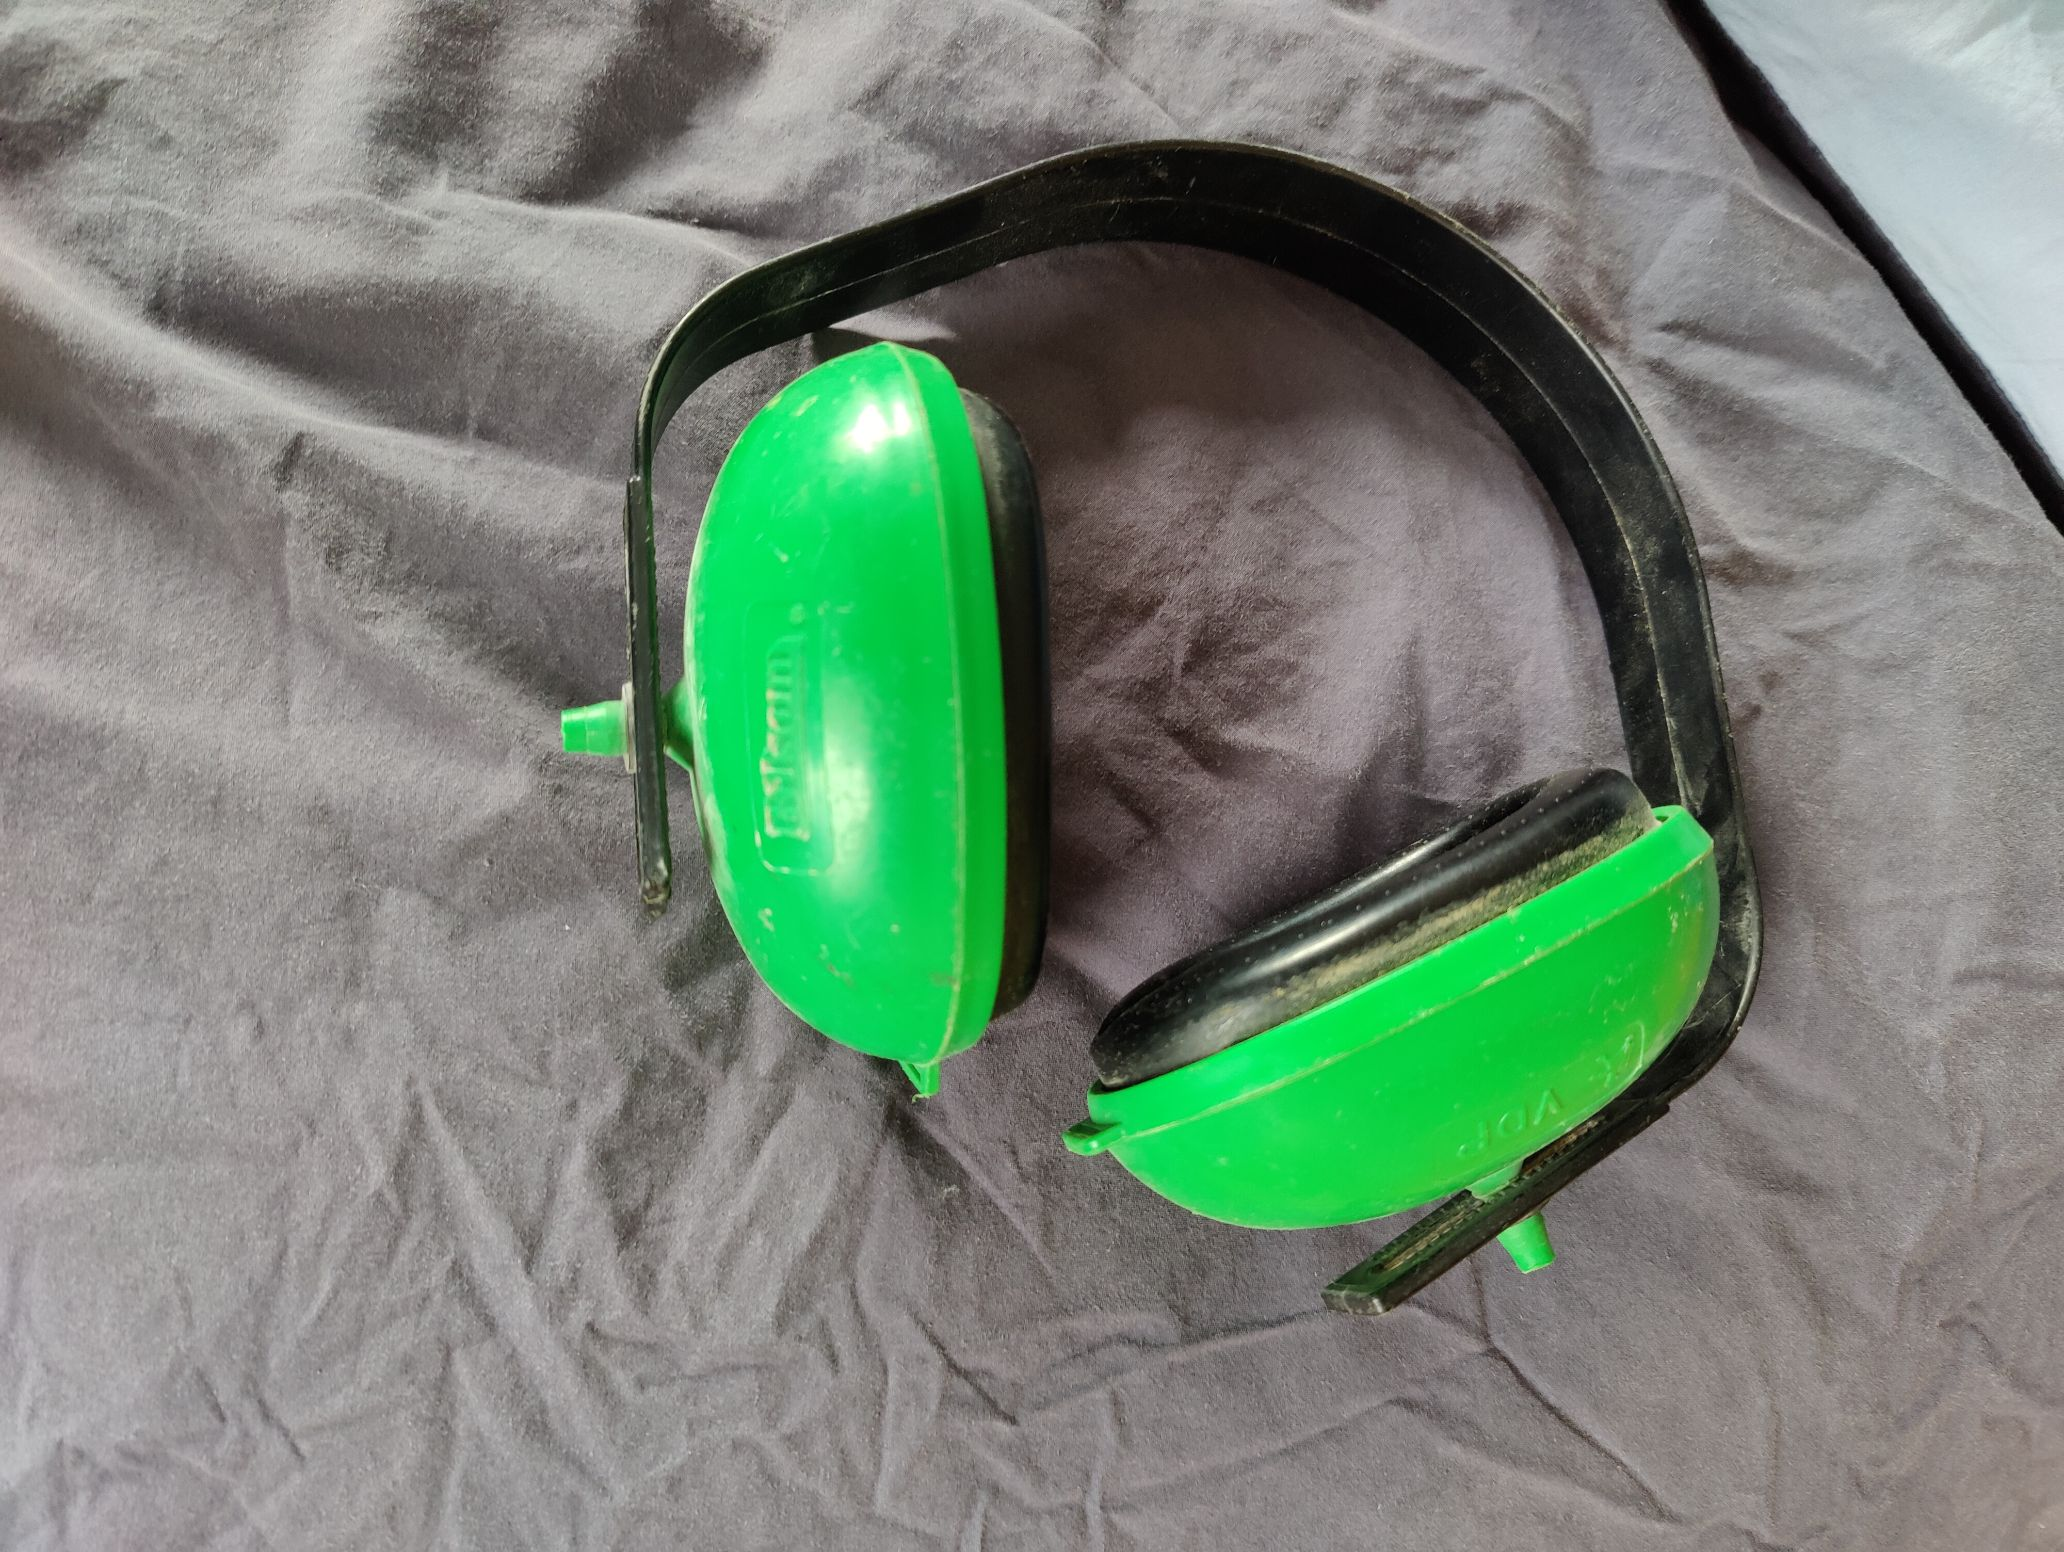headphones: (561, 139, 1761, 1337)
